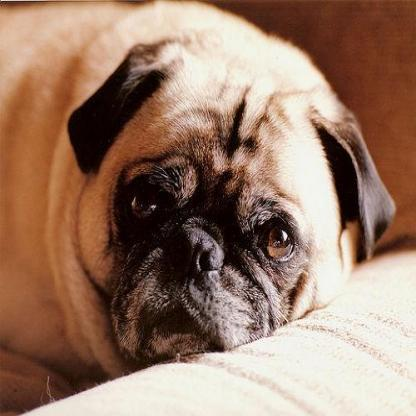pug: (0, 0, 397, 381)
